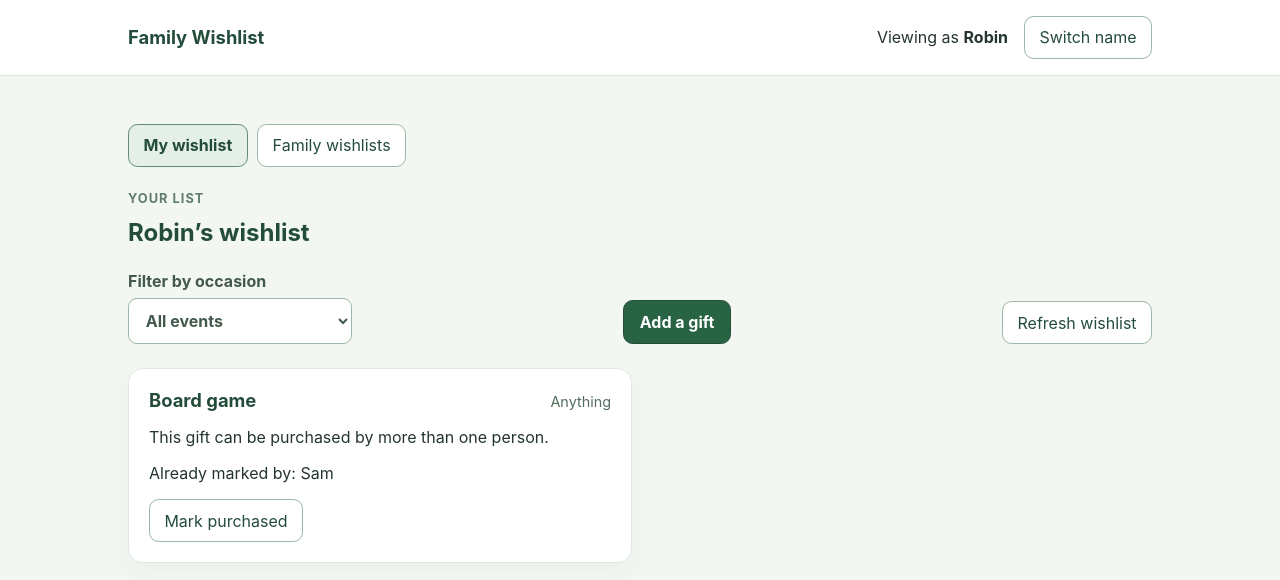
Test: PurchaseControls › revalidates identity after the real purchase request returns identity_required
The width and height of the screenshot is (1280, 580).
Click the button "Mark purchased" at (226, 520), box [149,499,303,542]
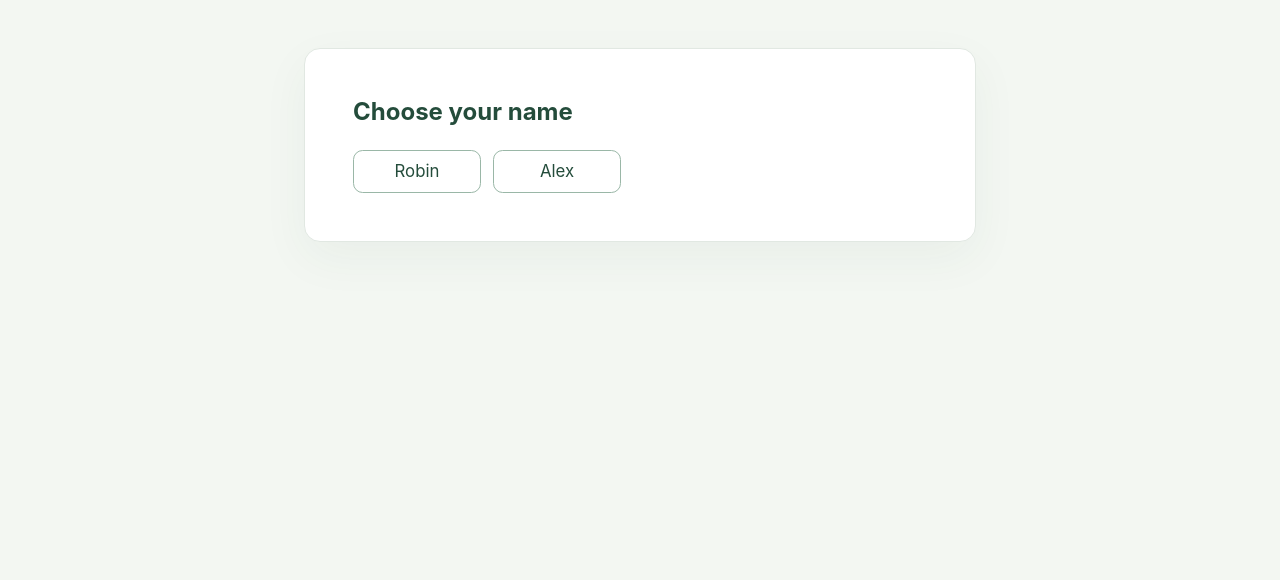
Now the heading "Choose your name" is shown, box [353,97,573,126]
